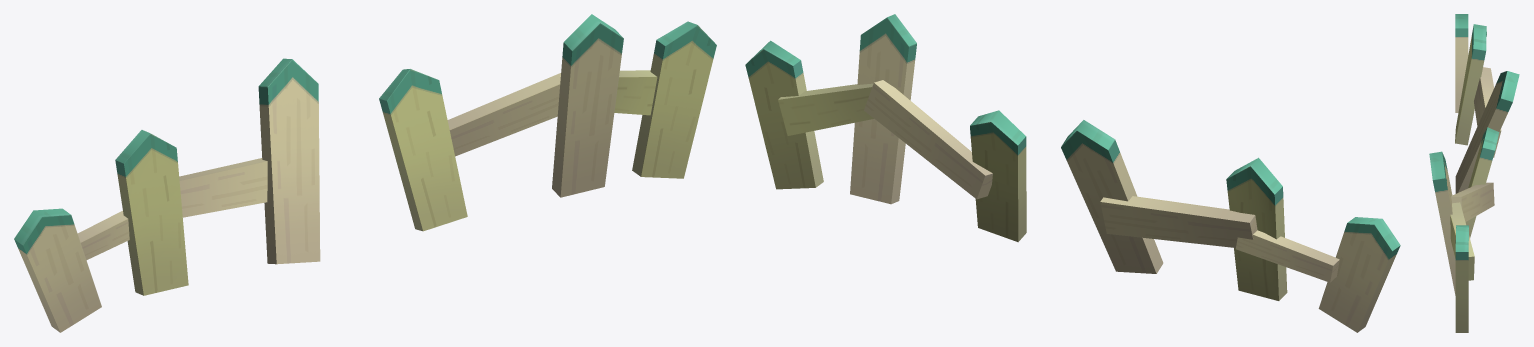
The model's file is BG_044_fence.FBX.
The picture shows the model from 3 angles, left to right: view 1: azimuth 30°, elevation 25°; view 2: azimuth 150°, elevation 25°; view 3: azimuth 270°, elevation 25°; orthographic projection. The views are drawn at different scales.
Visible parts, largest first — view 1: BG_044_fence; view 2: BG_044_fence; view 3: BG_044_fence.
Boxes of the visible parts, x1,y1,x2,y2 form: BG_044_fence: (14,14,716,332); BG_044_fence: (745,14,1400,332); BG_044_fence: (1429,14,1519,332).
Size of the model in its own units: 778 by 212 by 119.
